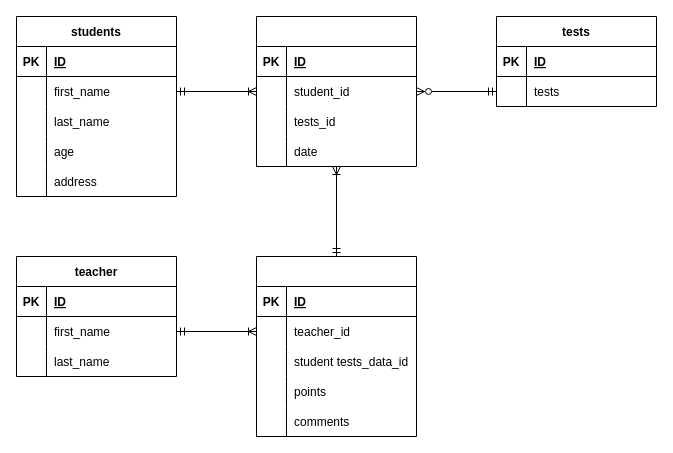
Image size: 673x453. Some labels were removed from this diagram. The shapes that lost their labels are listed below. From the top down, each one's box as (x1, y1, x2, y2) in pixels, then its label:
(256, 16, 416, 166): student_tests_data
(256, 256, 416, 436): point_results
